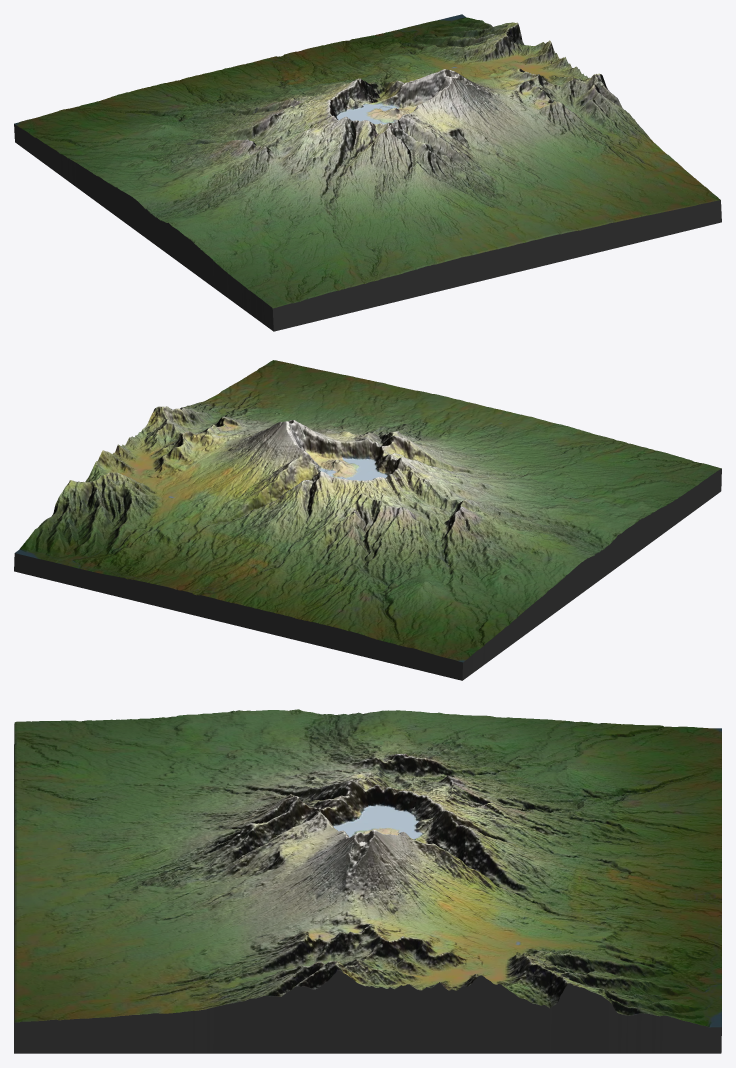
File: rinjani.glb
3 renders of one model, top to bottom at view 1: azimuth 30°, elevation 25°; view 2: azimuth 150°, elevation 25°; view 3: azimuth 270°, elevation 25°, orthographic. The views are drawn at different scales.
Parts seen in each view (by area): view 1: Object_5, Object_3; view 2: Object_5, Object_3; view 3: Object_5, Object_3.
Boxes of the visible parts, x1,y1,x2,y2 form: Object_5: (14, 14, 720, 308); Object_3: (14, 124, 721, 331); Object_5: (15, 360, 721, 662); Object_3: (14, 468, 721, 680); Object_5: (14, 709, 721, 1027); Object_3: (14, 710, 721, 1053).
Bounding box in the file's own units: 35028 × 6896 × 34989.
Materials: 2 (1 with a texture image).
